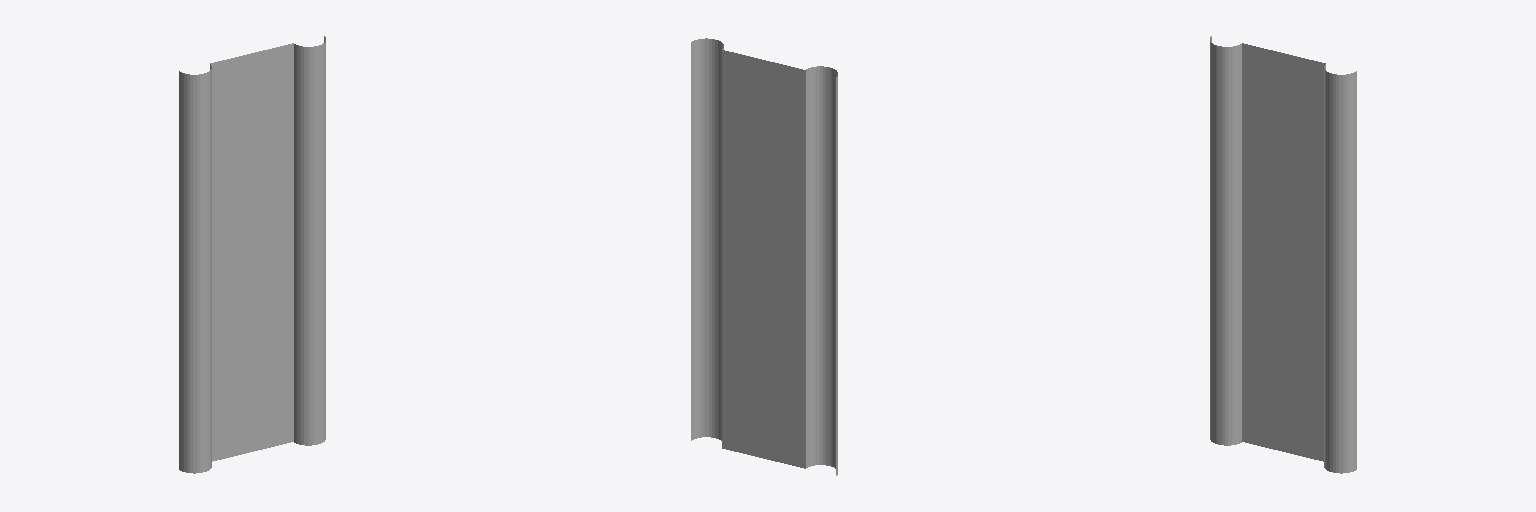
File: bowlingring.obj
3 renders of one model, left to right at view 1: azimuth 30°, elevation 25°; view 2: azimuth 150°, elevation 25°; view 3: azimuth 330°, elevation 25°, orthographic.
Parts seen in each view (by area): view 1: Plane; view 2: Plane; view 3: Plane.
Boxes of the visible parts, x1,y1,x2,y2 form: Plane: [179, 36, 325, 473]; Plane: [691, 38, 837, 475]; Plane: [1210, 36, 1356, 473].
Size of the model in its own units: 3.8 by 10 by 0.4.